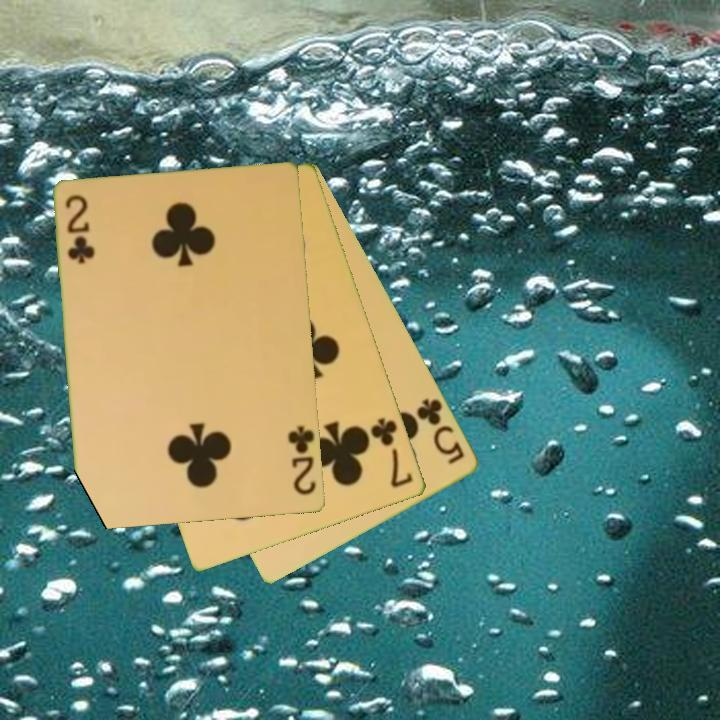2c: (285, 422, 319, 498), (62, 192, 96, 267)
5c: (413, 394, 468, 468)
7c: (367, 414, 416, 491)
